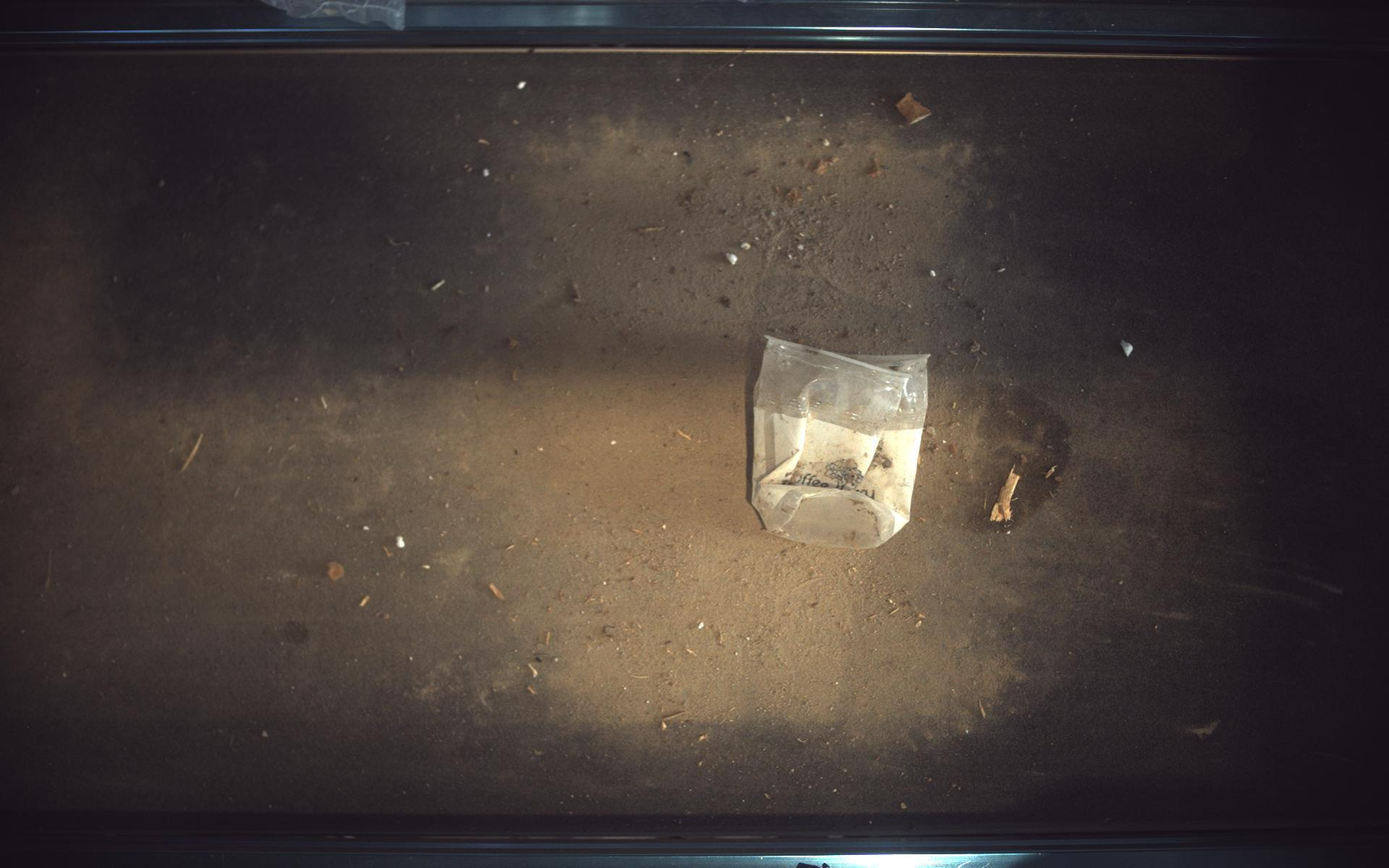general_w: (752, 336, 930, 549)
